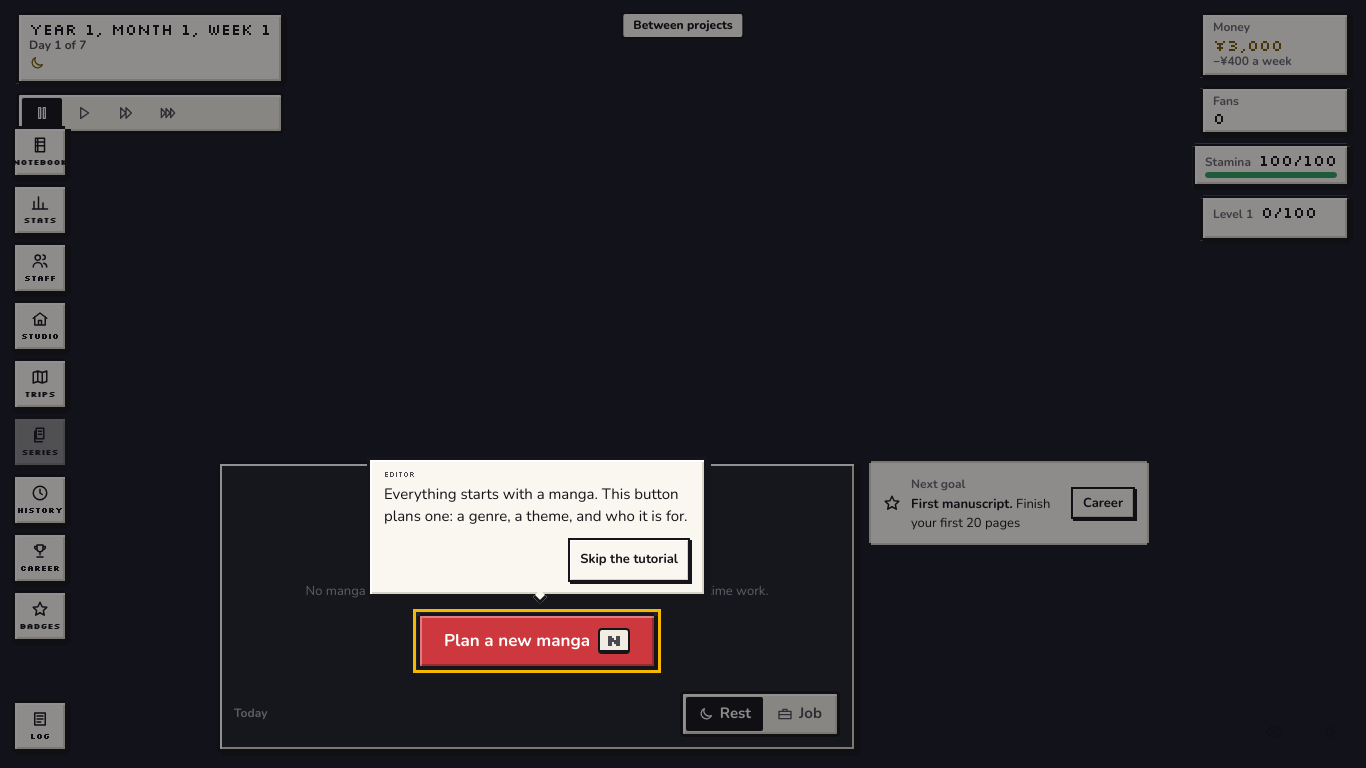
Test: App smoke test › opens the new-manga wizard dialog from the desk button on a fresh game
The width and height of the screenshot is (1366, 768).
Step 1. Click the button "Plan a new manga N" → point(537, 641), box [417,613,657,669]
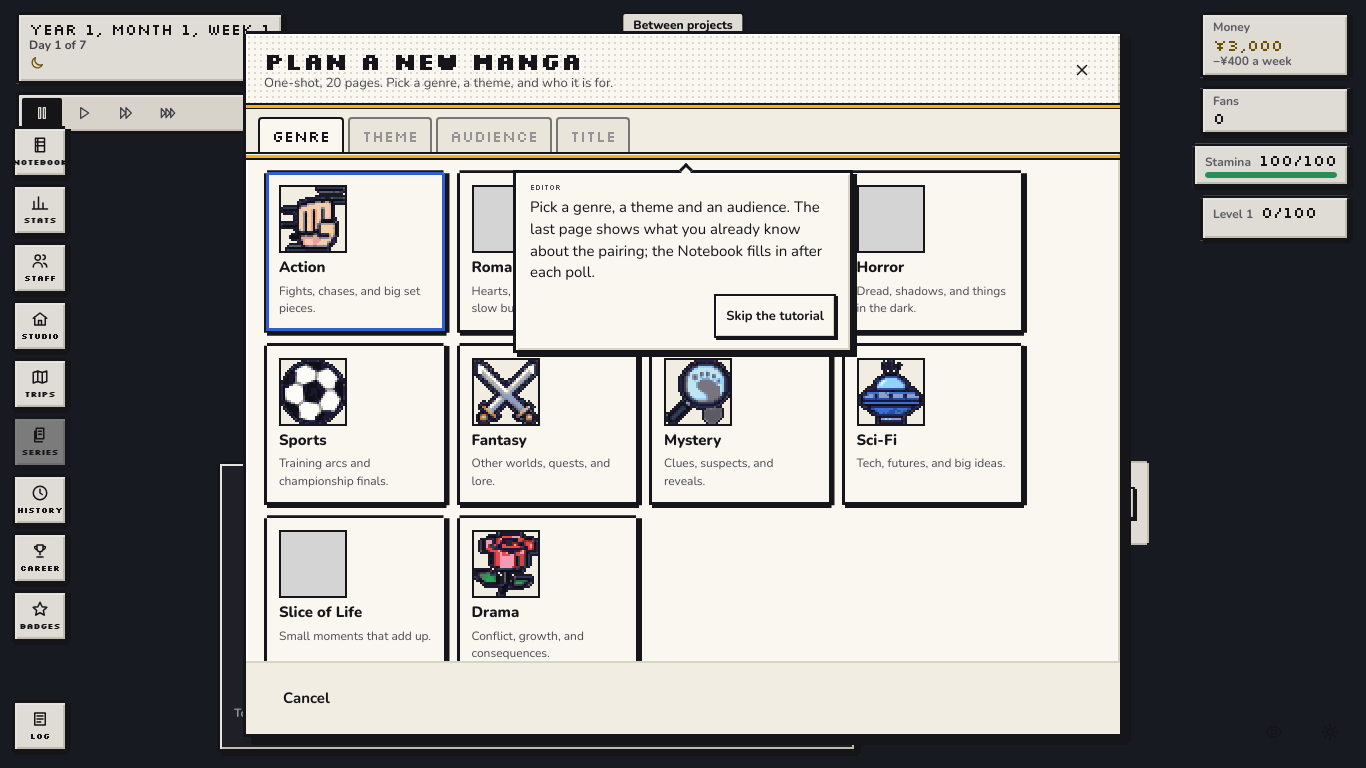
Expected: the dialog "Plan a new manga" is shown, [243,31,1123,737]
